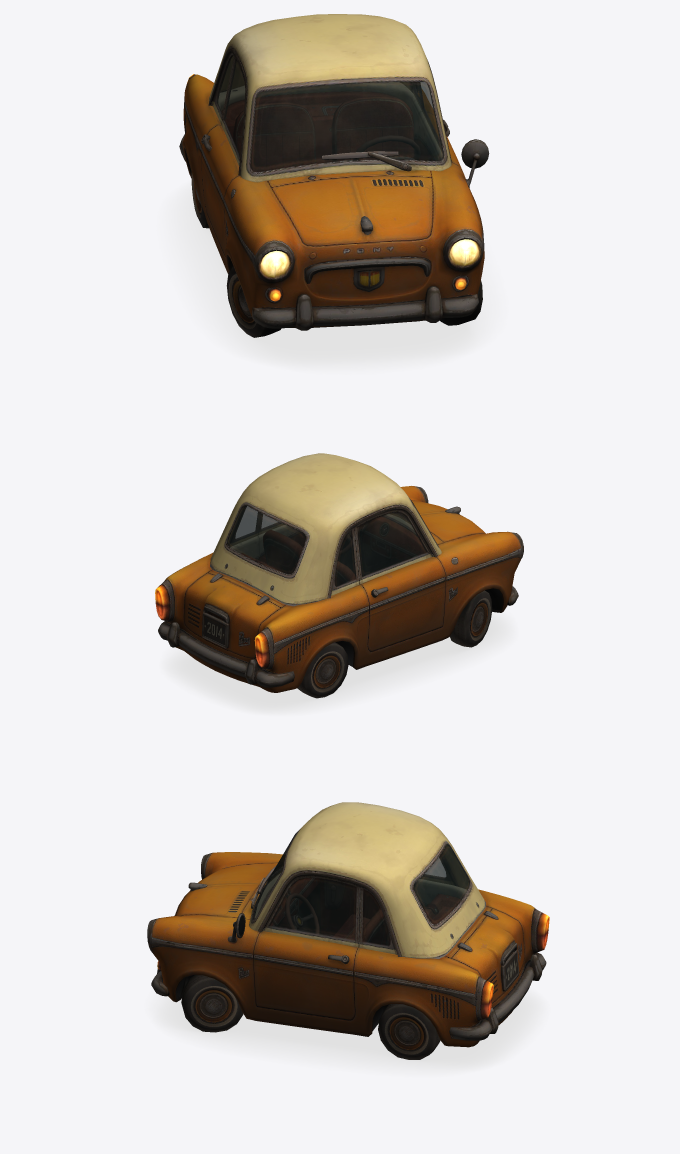
3 views of the same model, one above another, from view 1: azimuth 30°, elevation 25°; view 2: azimuth 150°, elevation 25°; view 3: azimuth 270°, elevation 25° (orthographic). The views are drawn at different scales.
Parts seen in each view (by area): view 1: Pony_cartoonobjcleaner; view 2: Pony_cartoonobjcleaner; view 3: Pony_cartoonobjcleaner.
Part boxes in pixels (<box>): Pony_cartoonobjcleaner: <box>163,14,501,371</box>; Pony_cartoonobjcleaner: <box>155,453,523,715</box>; Pony_cartoonobjcleaner: <box>147,802,549,1075</box>.
Bounding box in the file's own units: 3.89 × 1.38 × 4.21.
4 materials, 4 textured.
